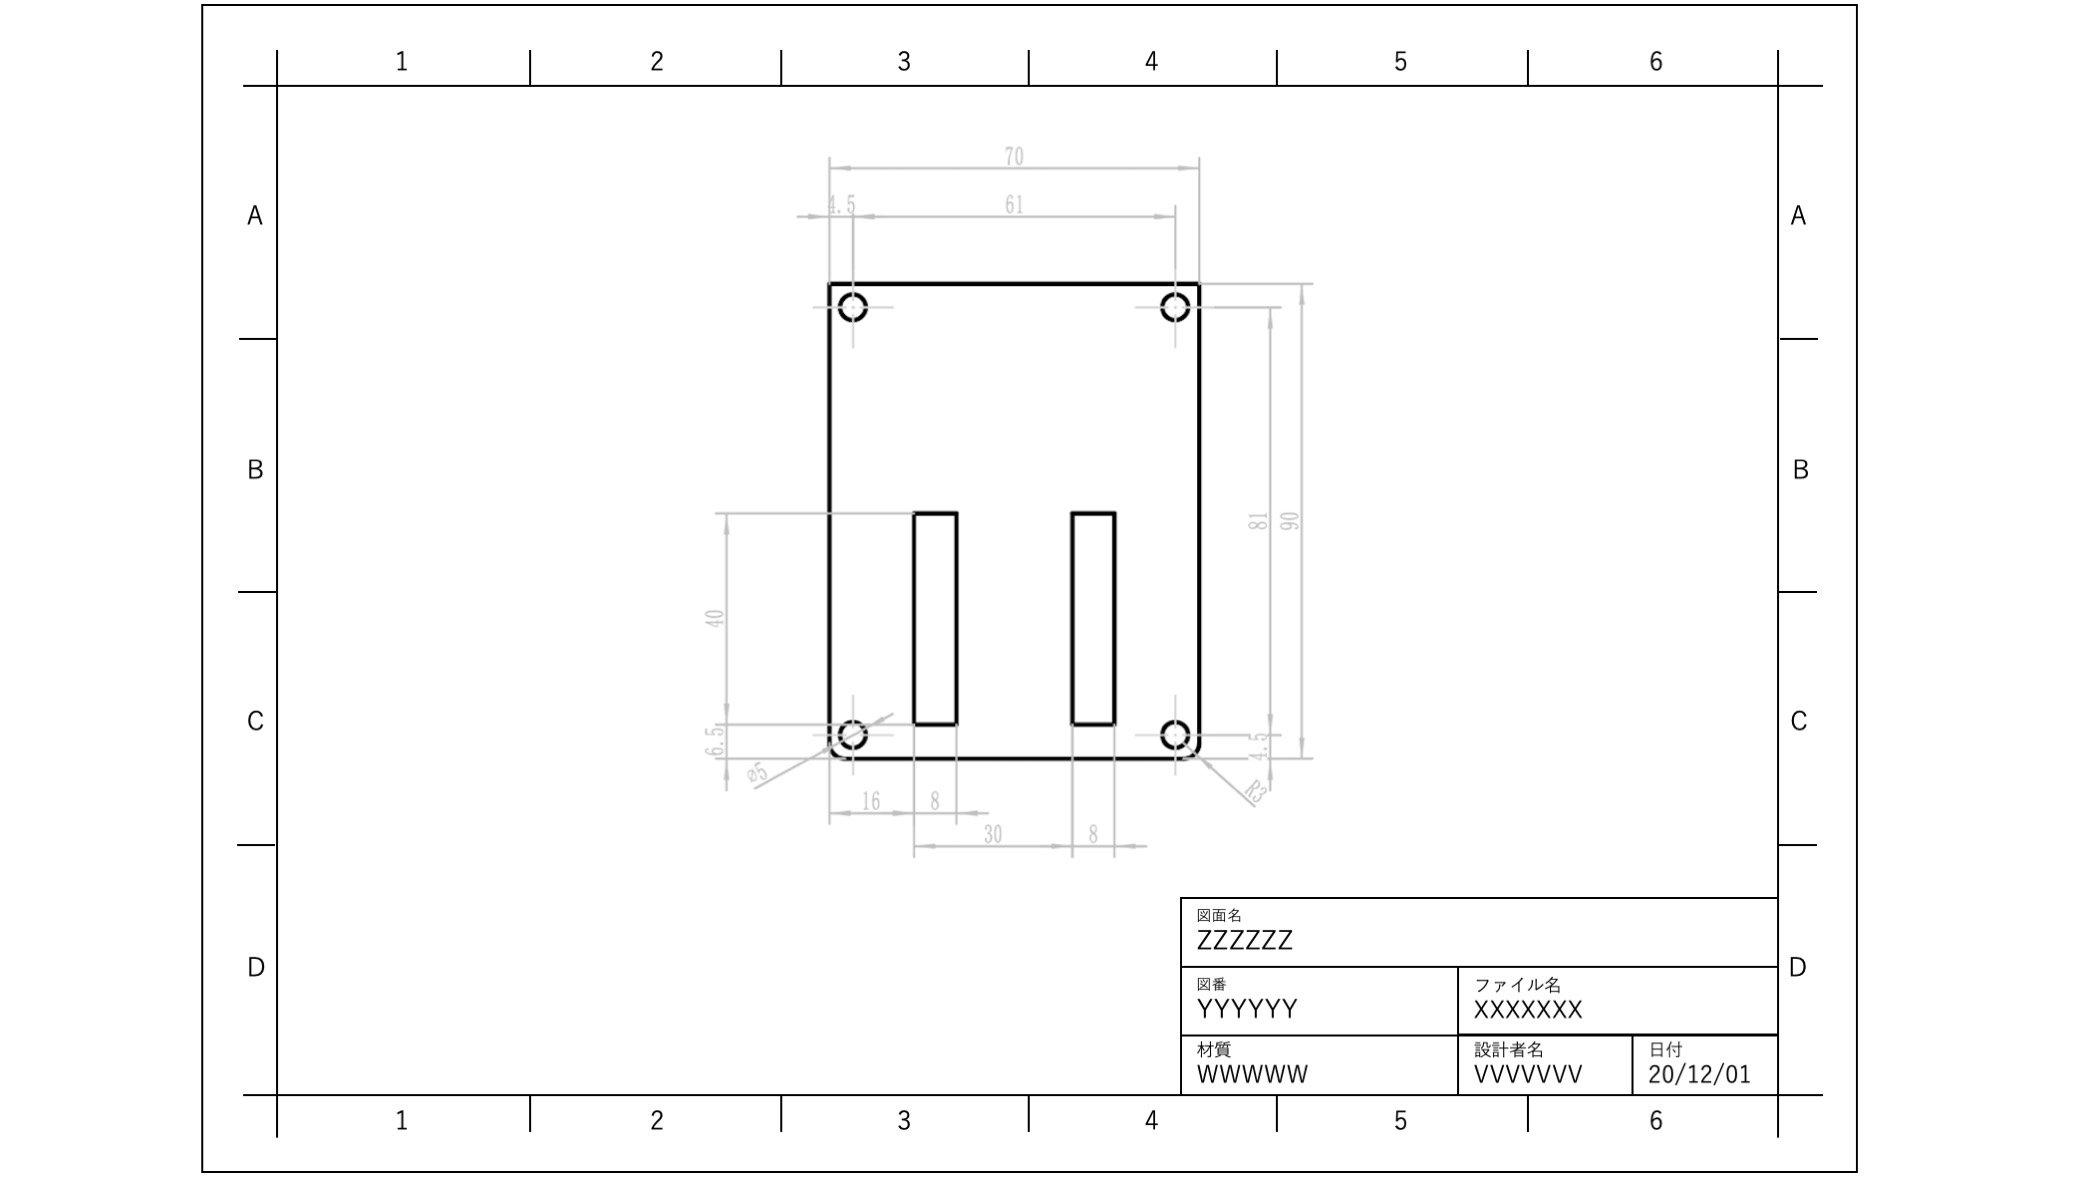circle: (1155, 699, 1196, 753), (822, 281, 870, 324), (1148, 290, 1203, 324), (834, 712, 875, 748)
rectangle: (1062, 493, 1126, 737), (904, 490, 961, 733)
